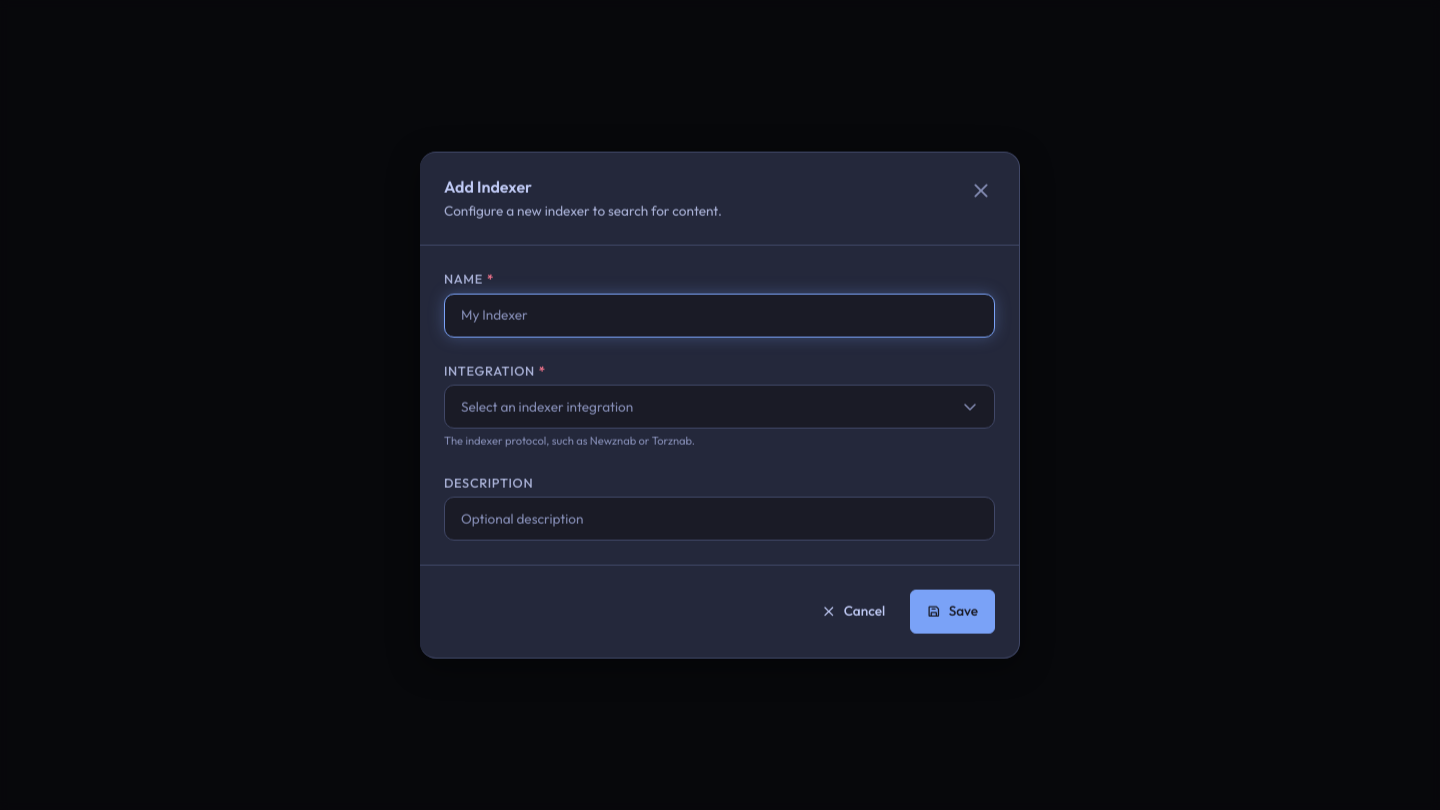
IndexerForm creation › shows required fields and reports missing values
The image size is (1440, 810).
Click the button "Save" at (953, 611), box x1=910 y1=589 x2=995 y2=633
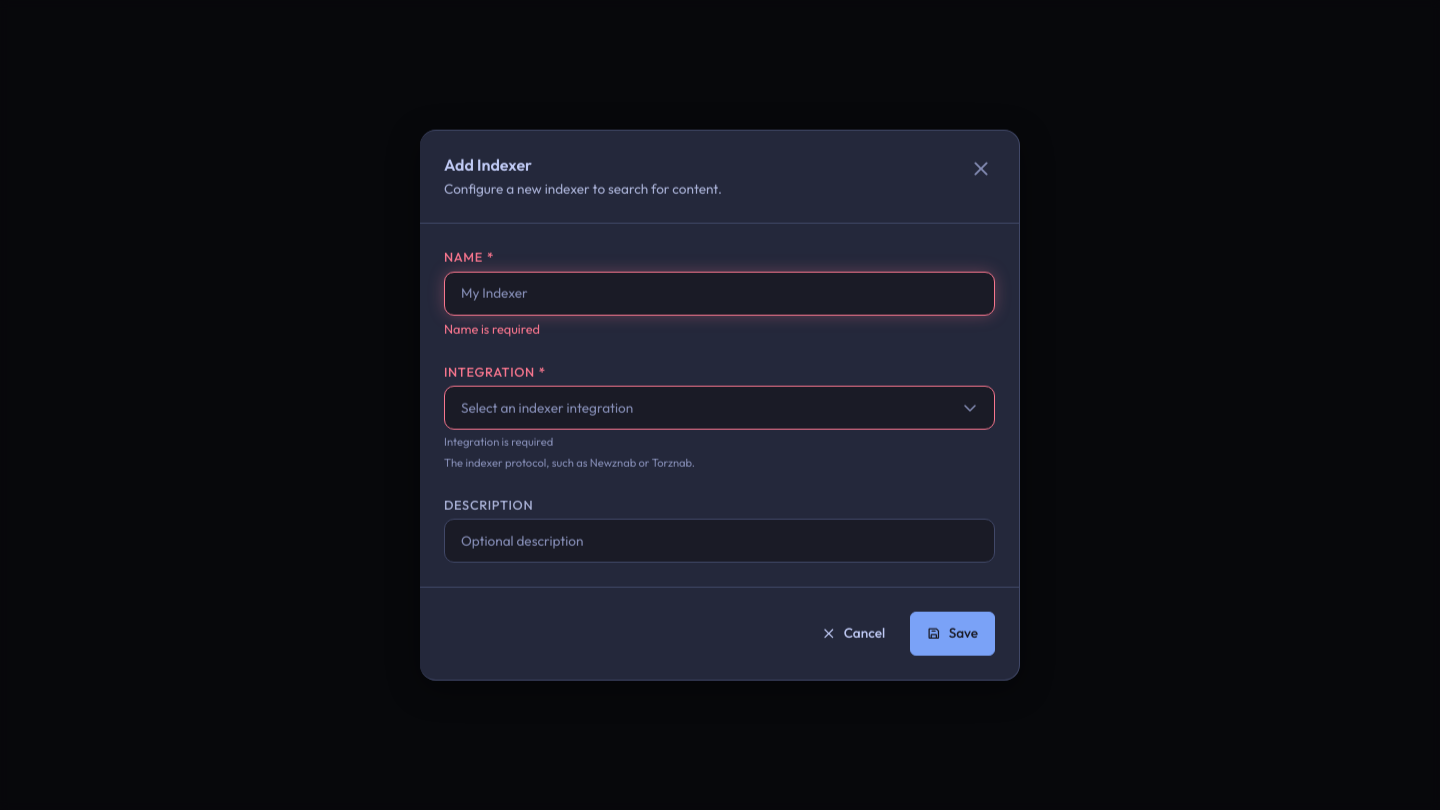
Expected: the heading "Add Indexer" is shown, x1=444 y1=155 x2=532 y2=175
Result: the text "Name is required" is shown at x1=444 y1=320 x2=540 y2=336
Result: the text "Integration is required" is shown at x1=444 y1=435 x2=553 y2=449
